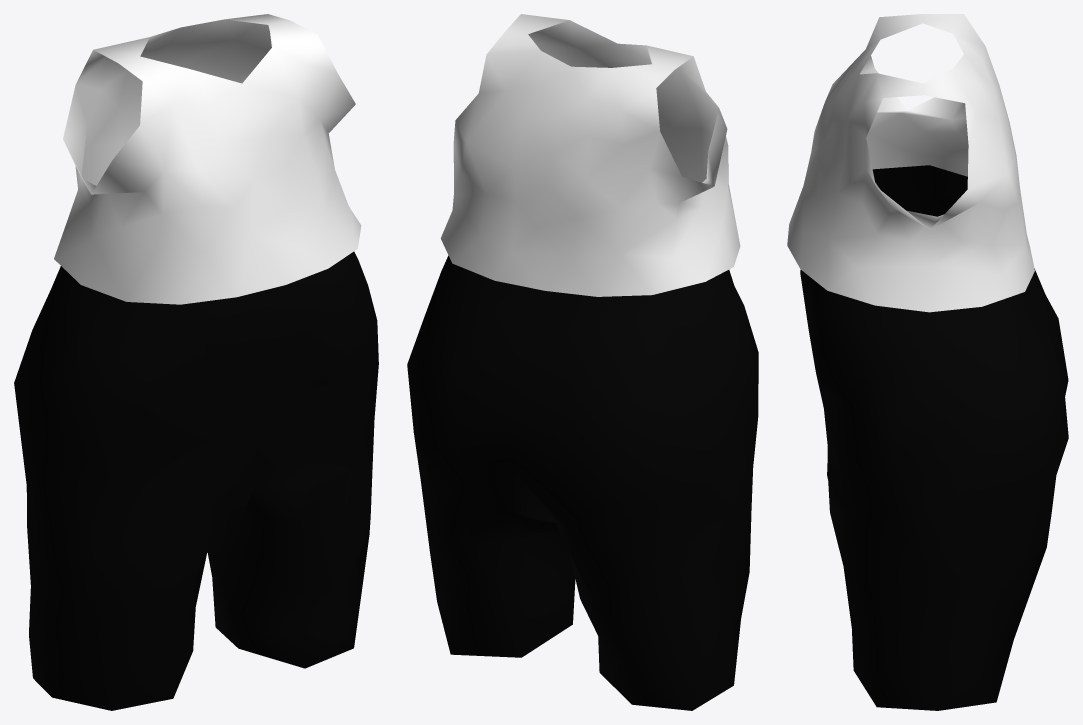
File: ddgdrelative.fbx
3 views of the same model, side by side, from view 1: azimuth 30°, elevation 25°; view 2: azimuth 150°, elevation 25°; view 3: azimuth 270°, elevation 25° (orthographic). The views are drawn at different scales.
Visible parts, largest first — view 1: ddgdrelative; view 2: ddgdrelative; view 3: ddgdrelative.
Boxes of the visible parts, box(x1,y1,x2,y2) form: ddgdrelative: box(14, 14, 378, 710); ddgdrelative: box(407, 14, 758, 710); ddgdrelative: box(787, 14, 1068, 710).
Bounding box in the file's own units: 51.42 × 93.65 × 39.61.
